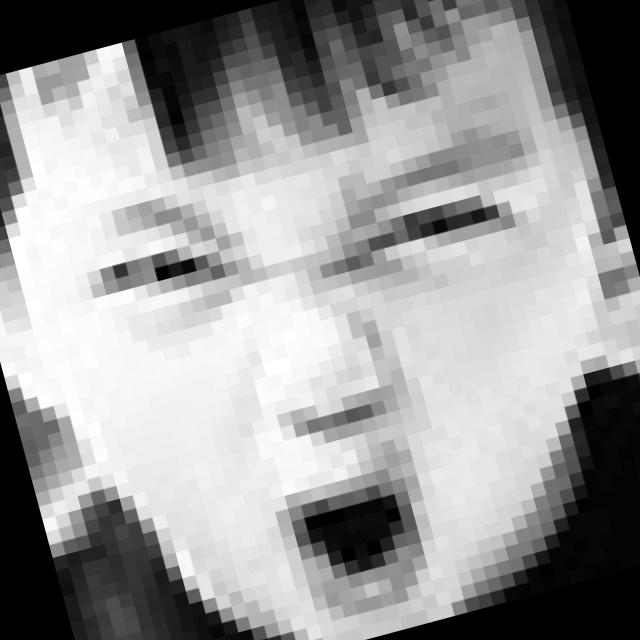angry: (70, 95, 616, 640)
